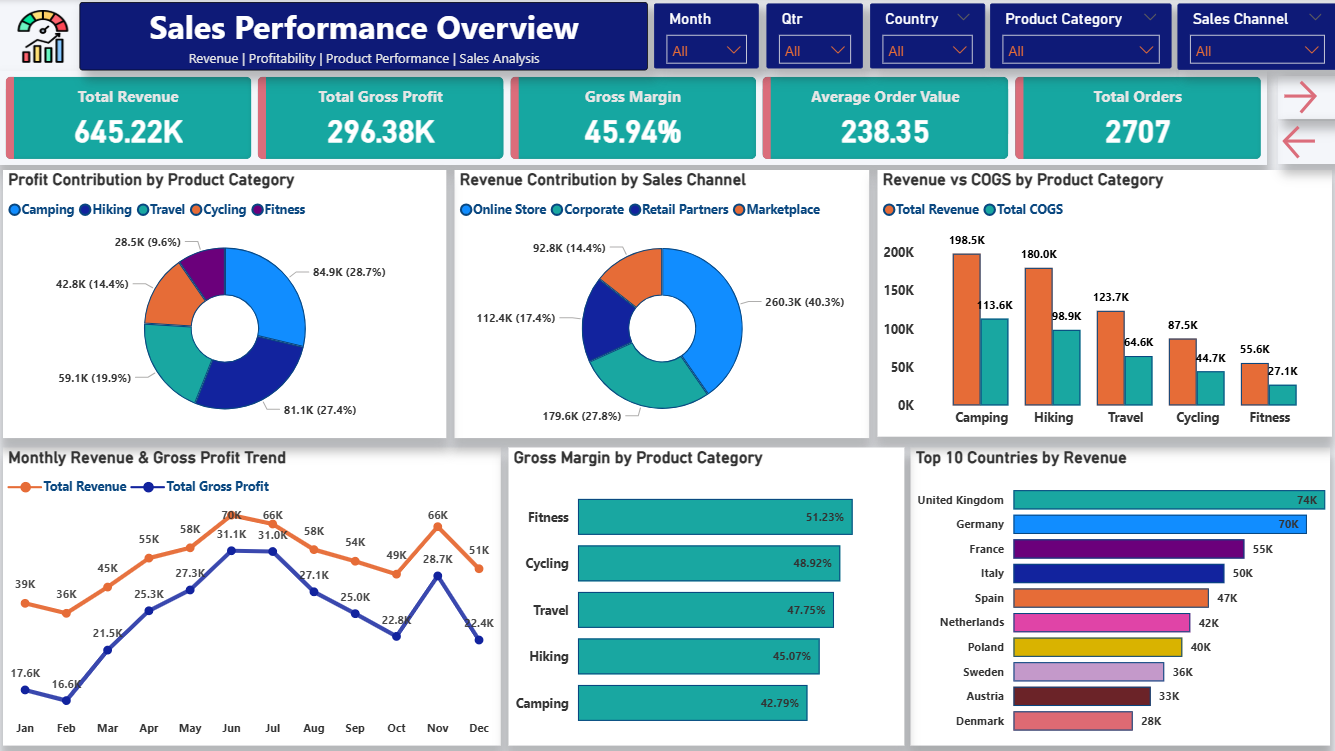

The dashboard page shown, as its layout file describes it:
{"tool":"powerbi","page":{"name":"Sales Analysis","canvas":[1280,720],"ordinal":0},"visuals":[{"type":"cardVisual","fields":{"Data":["All_Measures.Total Revenue","All_Measures.Total Gross Profit","All_Measures.Gross_margin","All_Measures.Average Order Value (AOV)","All_Measures.Total Orders"]},"box":[0,68.4,1210,89.1],"z":0},{"type":"textbox","title":"Sales Performance Overview","box":[76.3,3.2,542.4,65.2],"z":1000},{"type":"slicer","fields":{"Values":["Calendar_Table.Month"]},"box":[625.1,4.8,100.2,62],"z":2000},{"type":"lineChart","title":"Monthly Revenue & Gross Profit Trend","fields":{"Y":["All_Measures.Total Revenue"],"Category":["Calendar_Table.Month"],"Y2":["All_Measures.Total Gross Profit"]},"box":[3.2,427.9,475,284.7],"z":3000},{"type":"clusteredBarChart","title":"Top 10 Countries by Revenue","fields":{"Category":["SalesDataTable.Country"],"Y":["All_Measures.Total Revenue"]},"box":[870.1,427.9,400.8,284.7],"z":4000},{"type":"slicer","fields":{"Values":["Calendar_Table.Qtr"]},"box":[731.7,4.8,92.3,62],"z":5000},{"type":"slicer","fields":{"Values":["SalesDataTable.Country"]},"box":[830.3,4.8,109.8,62],"z":7000},{"type":"pieChart","title":"Revenue Contribution by Sales Channel","fields":{"Y":["All_Measures.Total Revenue"],"Category":["SalesDataTable.Sales Channel"]},"box":[434.2,163.1,396.1,256],"z":8000},{"type":"donutChart","title":"Profit Contribution by Product Category","fields":{"Category":["SalesDataTable.Product Category"],"Y":["Sum(SalesDataTable.Gross Profit)"]},"box":[3.2,163.1,423.1,256],"z":9000},{"type":"slicer","fields":{"Values":["SalesDataTable.Product Category"]},"box":[944.8,4.8,173.4,62],"z":10000},{"type":"clusteredColumnChart","title":"Revenue vs COGS by Product Category","fields":{"Category":["SalesDataTable.Product Category"],"Y":["All_Measures.Total Revenue","Sum(SalesDataTable.COGS)"]},"box":[838.3,163.8,434.2,254.5],"z":11000},{"type":"slicer","fields":{"Values":["SalesDataTable.Sales Channel"]},"box":[1123.7,4.2,152.2,63.1],"z":12000},{"type":"image","box":[4.8,4.8,73.2,62],"z":13000},{"type":"actionButton","box":[1220,73.2,54.1,41.4],"z":14000},{"type":"actionButton","box":[1220,116.1,54.1,41.4],"z":15000},{"type":"clusteredBarChart","fields":{"Y":["All_Measures.Gross Margin"],"Category":["SalesDataTable.Product Category"]},"box":[485.1,427.9,378,284.7],"z":16000}]}

Visuals, with their boxes in screenshot pixels (x1, y1, x2, y2), scaled from the page's 1280x720 canvas onto the 1335x751 screenshot:
cardVisual - All_Measures.Total Revenue x All_Measures.Total Gross Profit: region(0, 71, 1262, 164)
"Sales Performance Overview" textbox: region(80, 3, 645, 71)
slicer - Calendar_Table.Month: region(652, 5, 756, 70)
"Monthly Revenue & Gross Profit Trend" lineChart: region(3, 446, 499, 743)
"Top 10 Countries by Revenue" clusteredBarChart: region(907, 446, 1326, 743)
slicer - Calendar_Table.Qtr: region(763, 5, 859, 70)
slicer - SalesDataTable.Country: region(866, 5, 980, 70)
"Revenue Contribution by Sales Channel" pieChart: region(453, 170, 866, 437)
"Profit Contribution by Product Category" donutChart: region(3, 170, 445, 437)
slicer - SalesDataTable.Product Category: region(985, 5, 1166, 70)
"Revenue vs COGS by Product Category" clusteredColumnChart: region(874, 171, 1327, 436)
slicer - SalesDataTable.Sales Channel: region(1172, 4, 1331, 70)
image: region(5, 5, 81, 70)
actionButton: region(1272, 76, 1329, 120)
actionButton: region(1272, 121, 1329, 164)
clusteredBarChart - All_Measures.Gross Margin x SalesDataTable.Product Category: region(506, 446, 900, 743)
